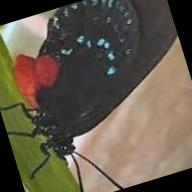butterfly: (15, 0, 177, 157)
